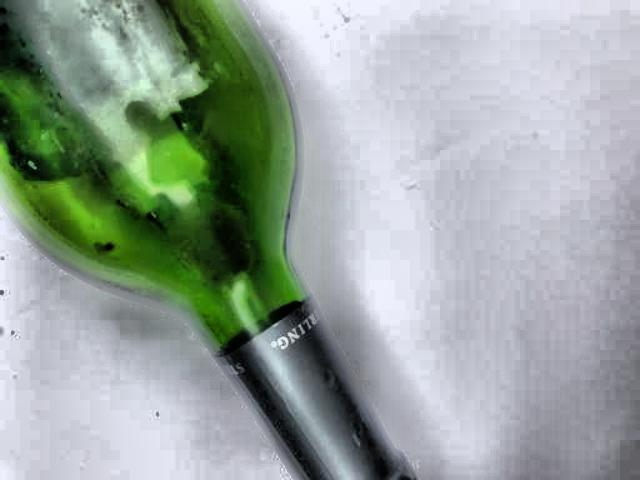Bottles: (0, 0, 446, 480)
